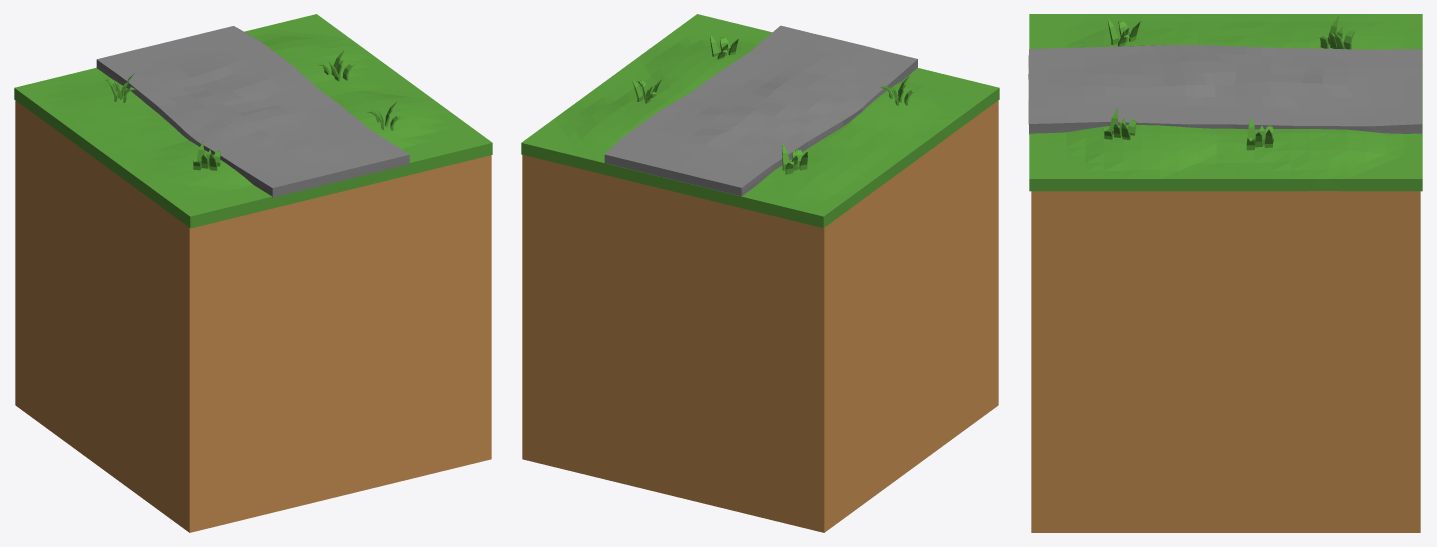
Rendered from StonePath1.2.fbx.
3 views of the same model, side by side, from view 1: azimuth 30°, elevation 25°; view 2: azimuth 150°, elevation 25°; view 3: azimuth 270°, elevation 25° (orthographic). The views are drawn at different scales.
Visible parts, largest first — view 1: StonePath, Grass, Path; view 2: StonePath, Grass, Path; view 3: StonePath, Grass, Path, Plane.007, Plane.005, Plane.004, Plane.006.
Boxes of the visible parts, x1,y1,x2,y2 form: StonePath: [15, 100, 491, 532]; Grass: [14, 14, 492, 228]; Path: [96, 26, 409, 197]; StonePath: [522, 100, 998, 532]; Grass: [521, 14, 999, 228]; Path: [604, 25, 917, 196]; StonePath: [1031, 191, 1420, 532]; Grass: [1029, 14, 1422, 191]; Path: [1028, 45, 1422, 134]; Plane.007: [1317, 16, 1355, 49]; Plane.005: [1246, 116, 1273, 150]; Plane.004: [1103, 108, 1136, 140]; Plane.006: [1107, 17, 1140, 46].
Bounding box in the file's own units: 1002 × 1080 × 1012.
